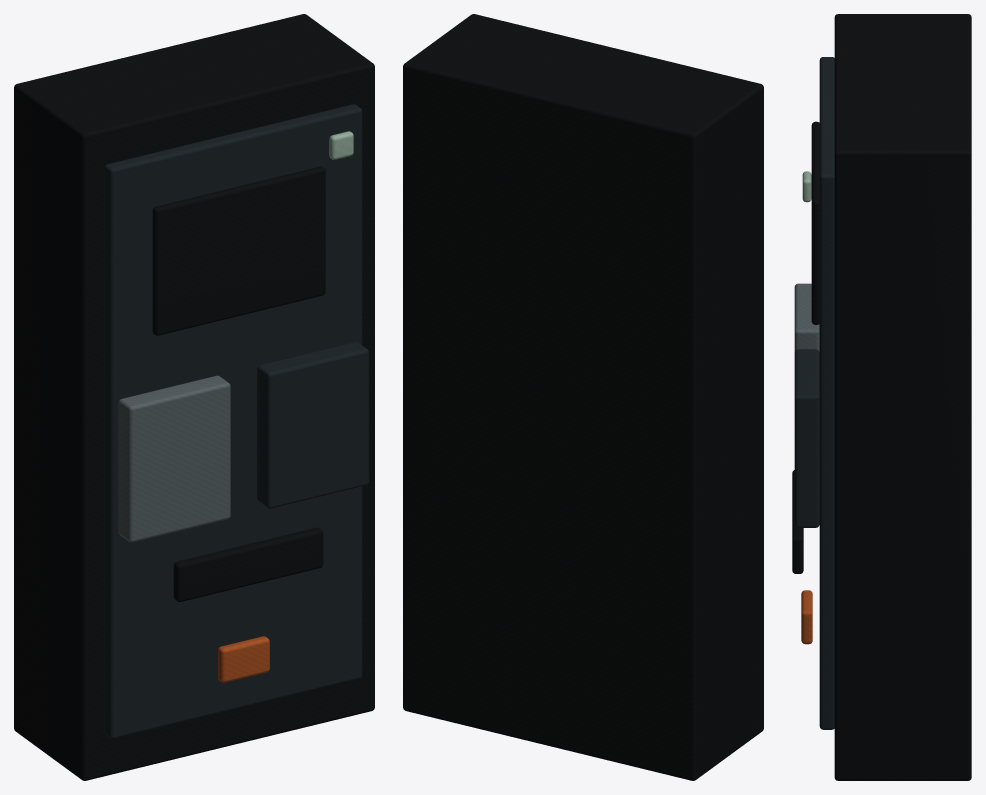
Rendered from WallPPEDispenser.fbx.
The picture shows the model from 3 angles, left to right: view 1: azimuth 30°, elevation 25°; view 2: azimuth 150°, elevation 25°; view 3: azimuth 270°, elevation 25°; orthographic projection. The views are drawn at different scales.
Visible parts, largest first — view 1: WallPPEDispenser_Mesh; view 2: WallPPEDispenser_Mesh; view 3: WallPPEDispenser_Mesh.
Part boxes in pixels (bbox=[...]): WallPPEDispenser_Mesh: bbox=[14, 14, 374, 780]; WallPPEDispenser_Mesh: bbox=[403, 14, 763, 780]; WallPPEDispenser_Mesh: bbox=[792, 14, 971, 780].
Bounding box in the file's own units: 72 × 152 × 39.25.
